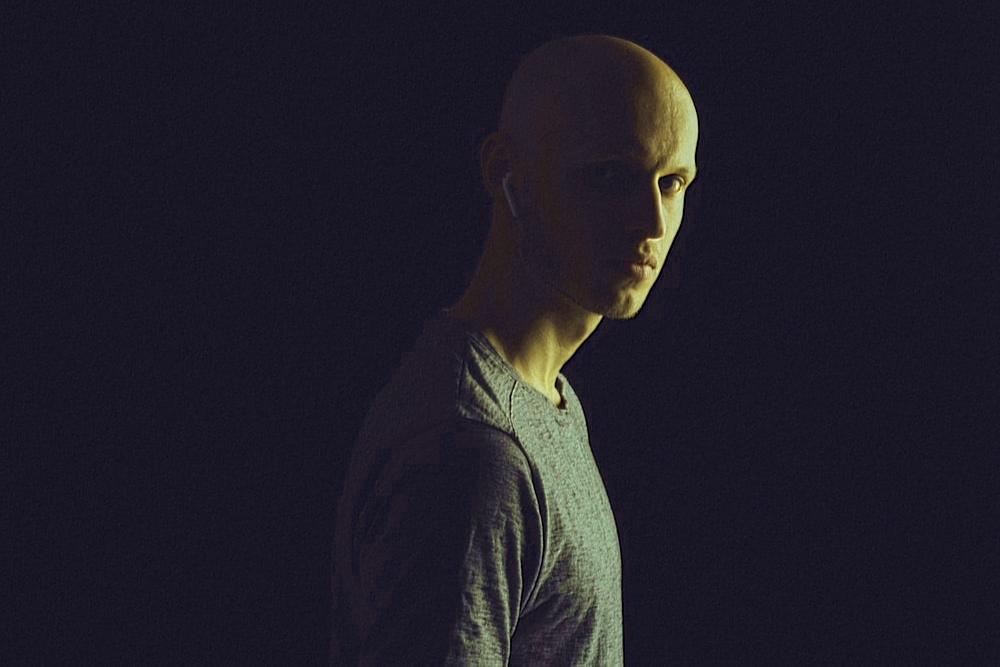earphone: (477, 135, 520, 221)
